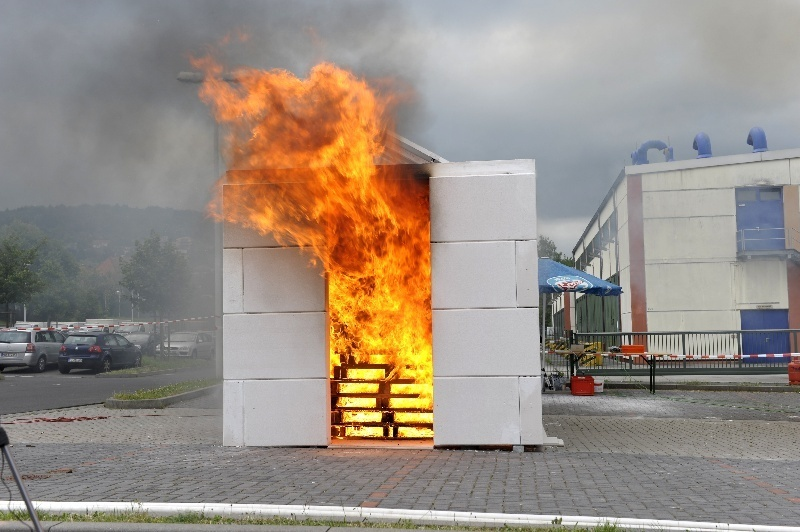fire: (197, 30, 434, 385)
